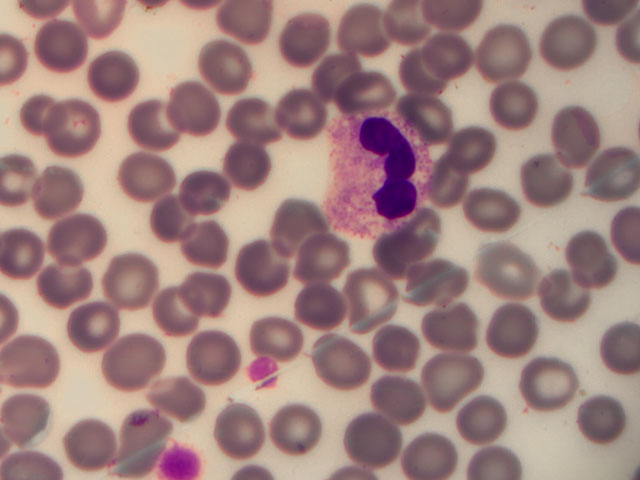Platelets: (157, 444, 203, 480), (242, 357, 279, 389)
RBC: (31, 14, 91, 74), (83, 49, 143, 109), (43, 95, 103, 155), (18, 87, 78, 147), (24, 155, 84, 215), (39, 205, 99, 265), (8, 220, 68, 280), (34, 248, 94, 308), (59, 294, 119, 354), (97, 251, 157, 311), (135, 279, 195, 339), (170, 273, 230, 333), (180, 220, 240, 280), (160, 197, 220, 257), (115, 153, 175, 213), (180, 165, 240, 225), (216, 148, 276, 208), (228, 99, 288, 159), (166, 78, 226, 138), (125, 93, 185, 153), (198, 35, 258, 95), (280, 82, 340, 142), (306, 44, 366, 104), (267, 9, 327, 69), (216, 1, 276, 61), (343, 6, 403, 66), (387, 41, 447, 101), (430, 23, 490, 83), (479, 26, 539, 86), (481, 78, 541, 138), (454, 109, 514, 169), (404, 80, 464, 140), (425, 155, 485, 215), (461, 175, 521, 235), (509, 140, 569, 200), (544, 102, 604, 162), (578, 148, 638, 208), (561, 223, 621, 283), (534, 264, 594, 324), (478, 240, 538, 300), (486, 291, 546, 351), (427, 302, 487, 362), (400, 253, 460, 313), (377, 224, 437, 284), (342, 263, 402, 323), (299, 282, 359, 342), (285, 229, 345, 289), (274, 202, 334, 262), (243, 235, 303, 295), (244, 299, 304, 359), (312, 338, 372, 398), (383, 315, 443, 375), (431, 353, 491, 413), (381, 359, 441, 419), (347, 399, 407, 459), (270, 398, 330, 458), (225, 401, 285, 461), (190, 331, 250, 391), (154, 365, 214, 425), (100, 331, 160, 391), (63, 408, 123, 468), (3, 384, 63, 444), (8, 331, 68, 391), (394, 420, 454, 480), (461, 388, 521, 448), (523, 357, 583, 417), (570, 394, 630, 454), (539, 14, 599, 74)
WBC: (323, 115, 429, 231)
